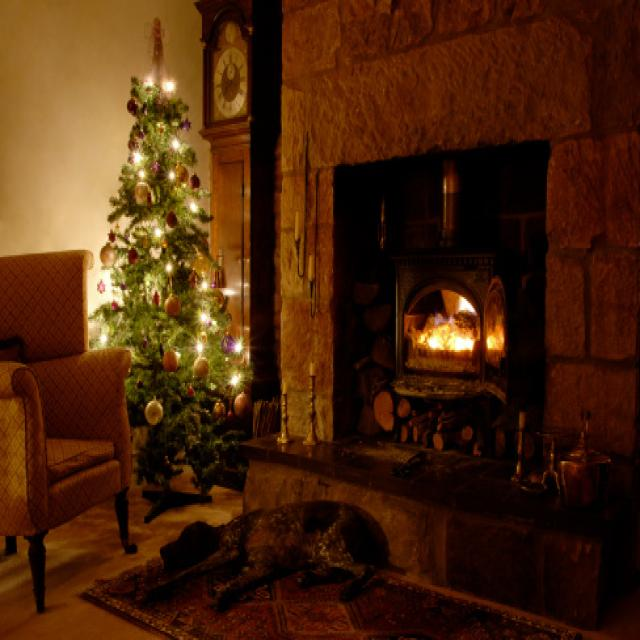Dog: (154, 513, 406, 640)
